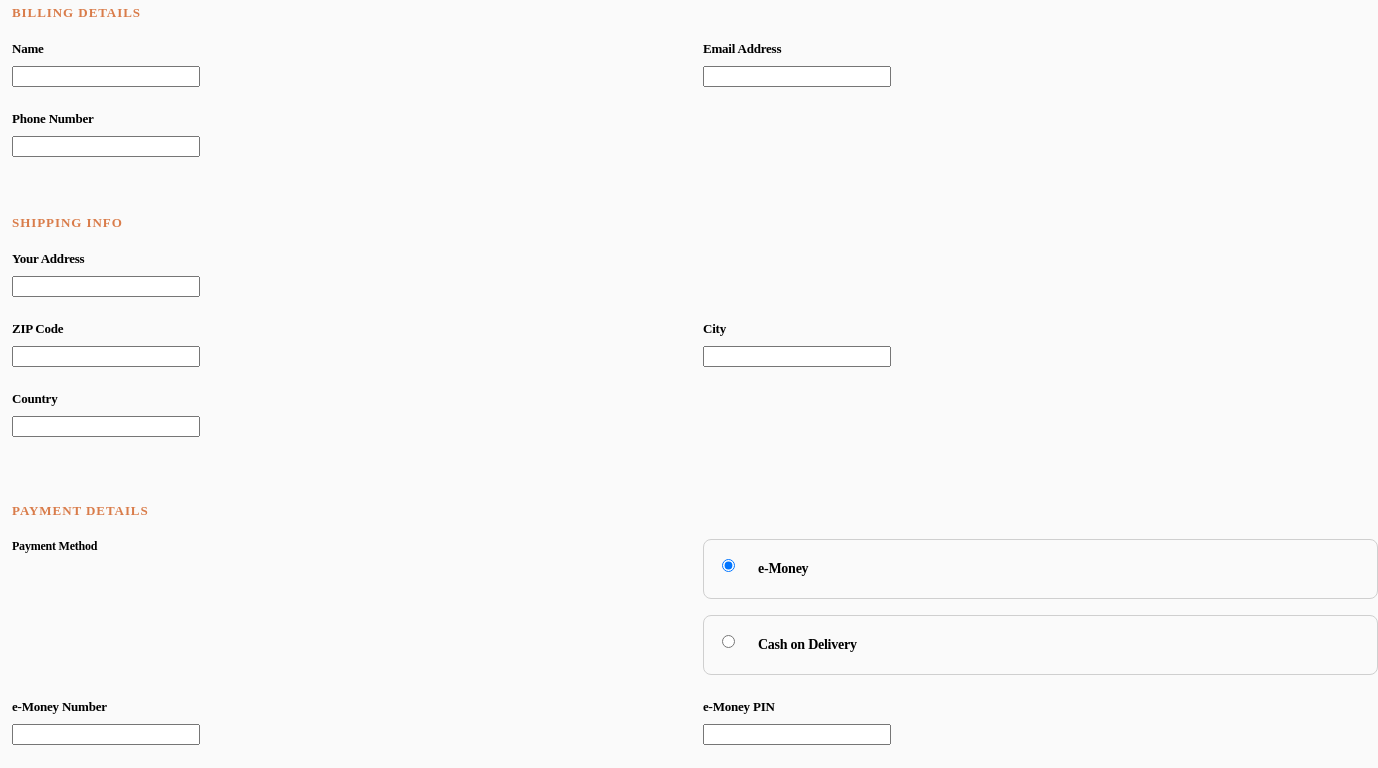
Test: ShippingInfo › Interactions › Form validation › displays a required error message in ZIP Code field when it was touched and then blurred leaving it with an empty value
The image size is (1378, 768).
Step 1. Click the field labelled "ZIP Code" → (106, 356), box top-left (12, 346), bottom-right (200, 367)
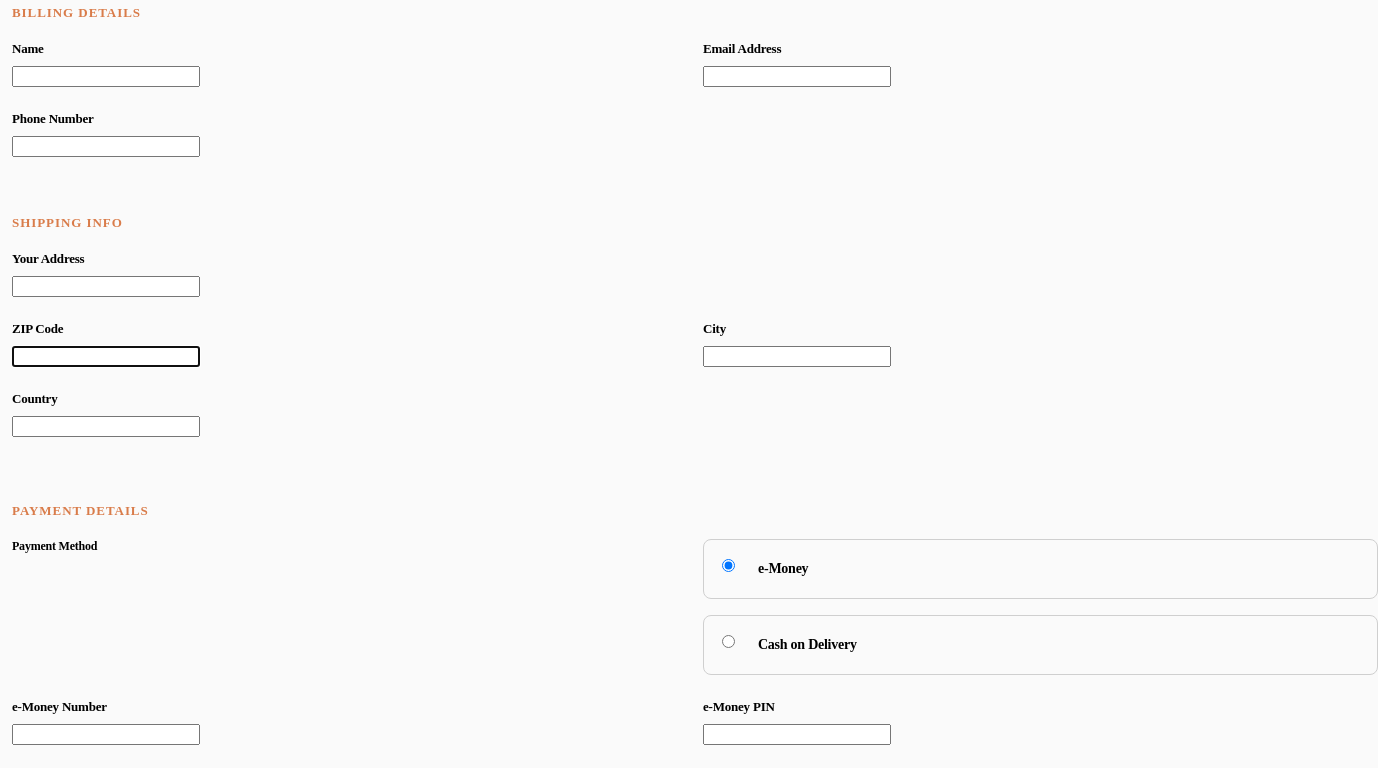
Step 2. Click the element that starts with "Billing Details" → (695, 384), box top-left (12, 0), bottom-right (1377, 767)
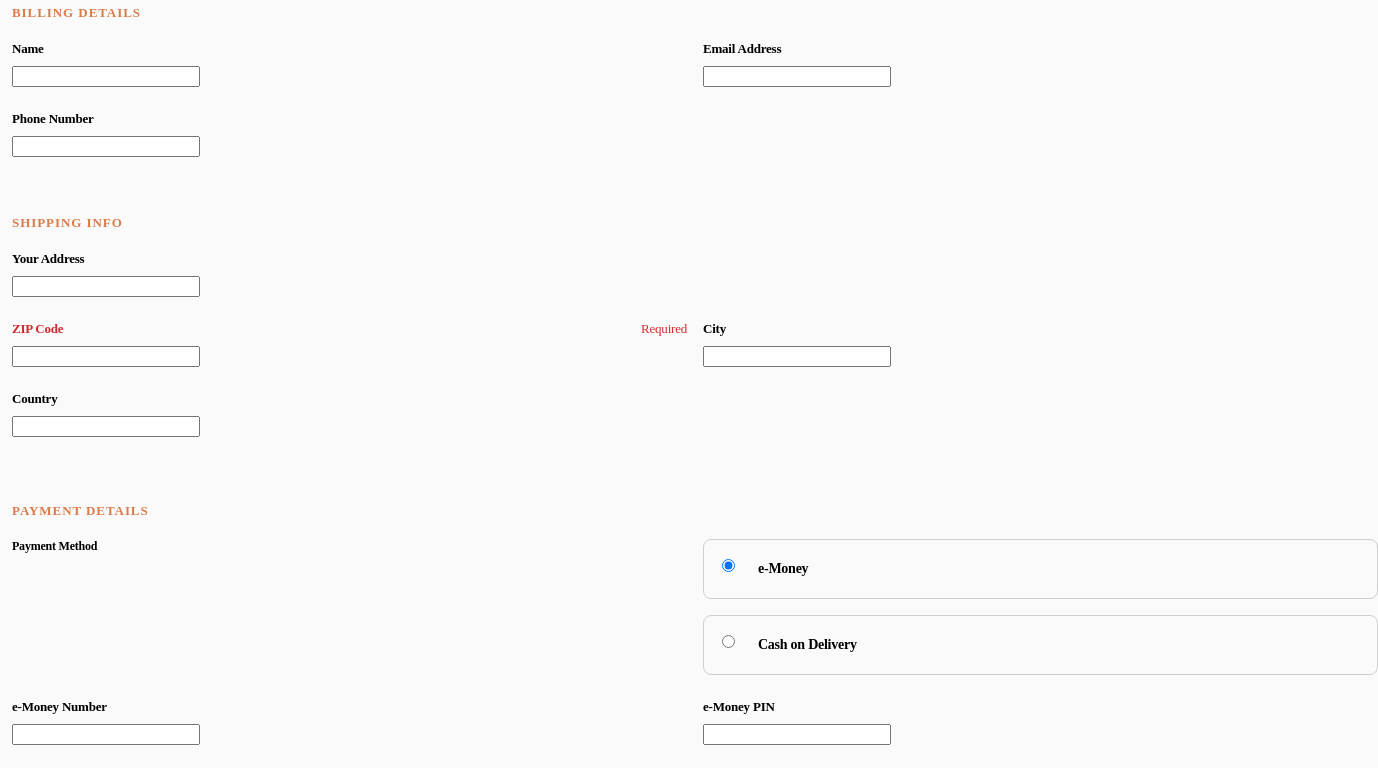
expect the text "Required" is shown: met, box top-left (641, 321), bottom-right (687, 337)
